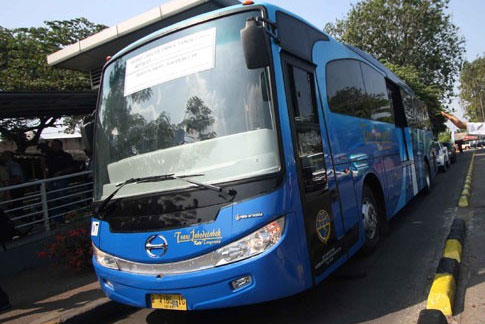plate: (148, 293, 186, 312)
